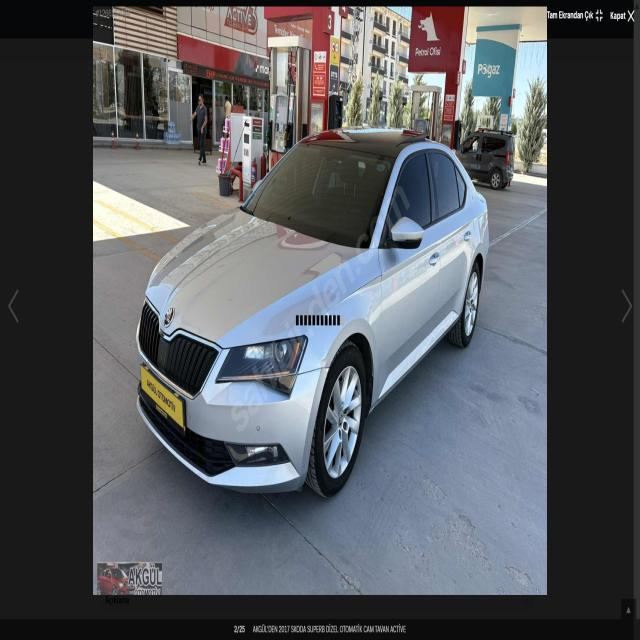skoda: (160, 301, 180, 332)
